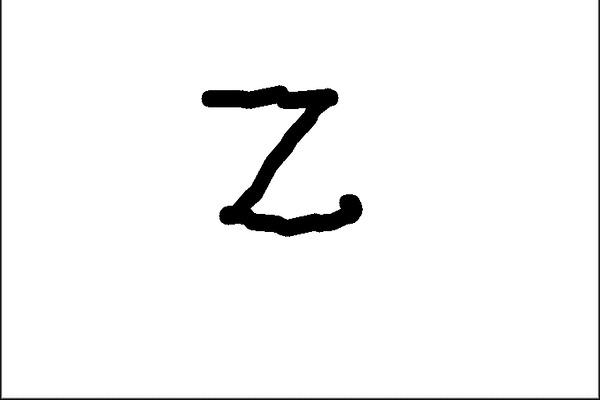Z: (196, 80, 371, 246)
